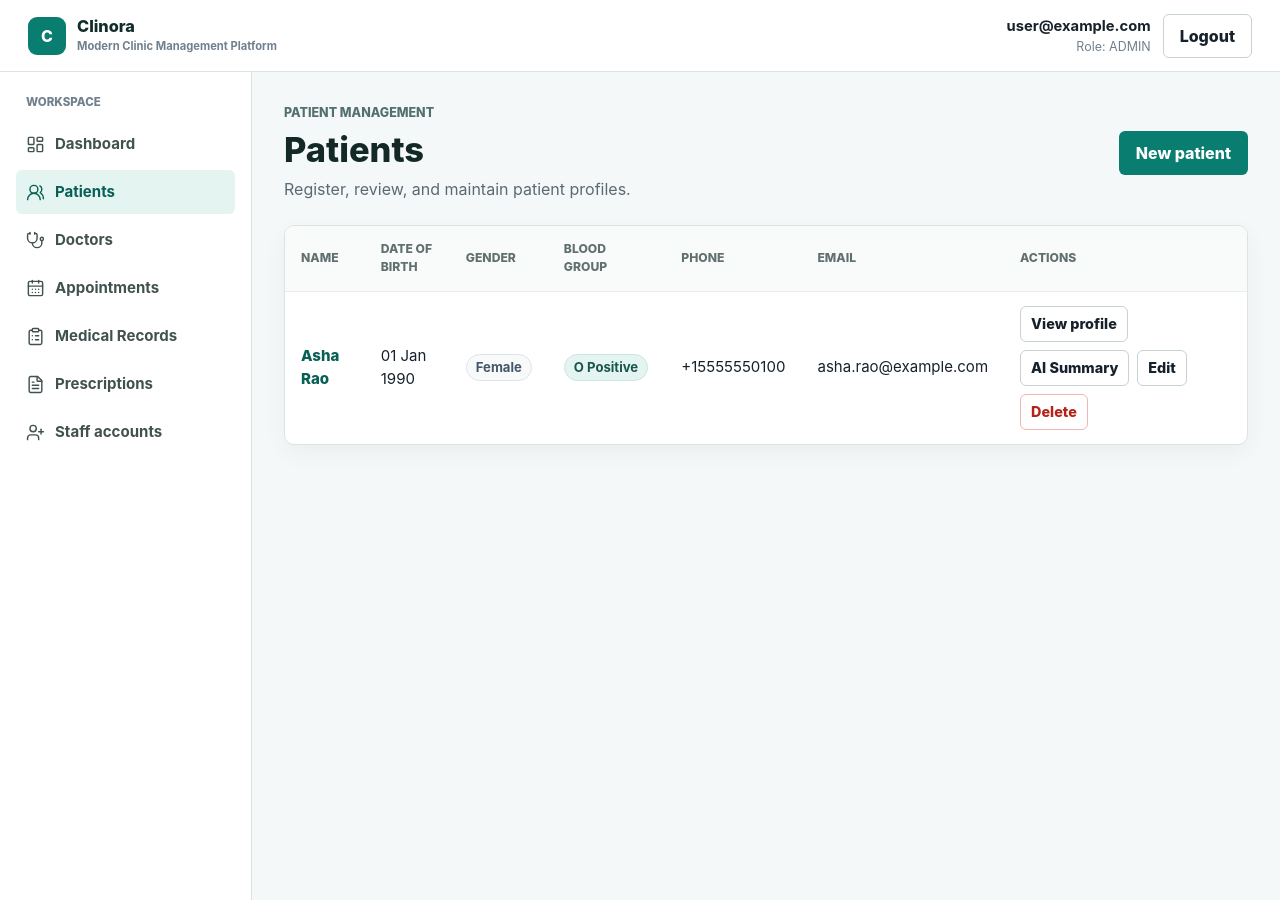
it: PatientsPage › allows admins to delete patients
Click the button "Delete": coordinates (1054, 412) [1020,394,1088,430]
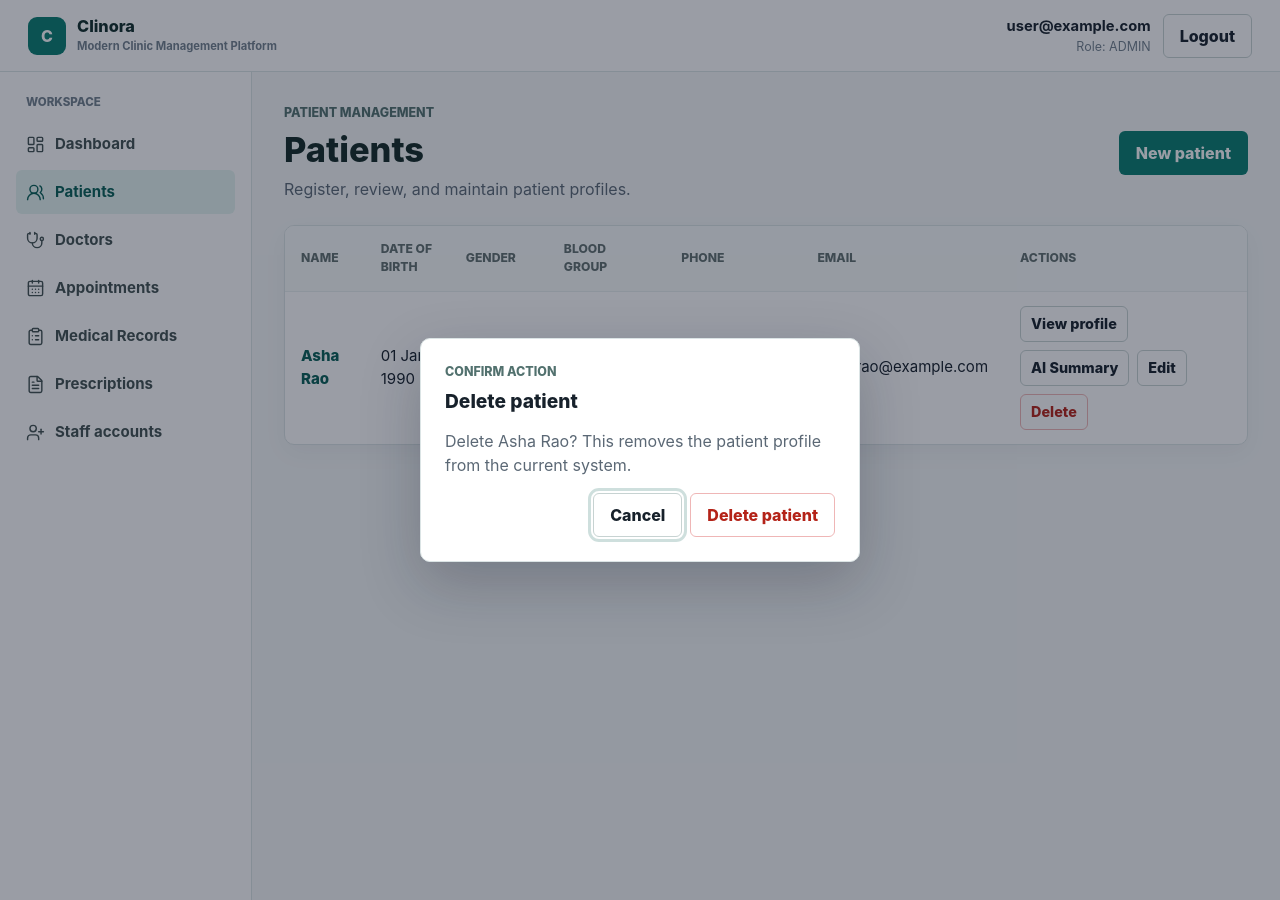
Check: the dialog "Delete patient" is shown, box [420,338,860,562]
Click the button "Delete patient": coordinates (763, 515) [690,493,835,537]
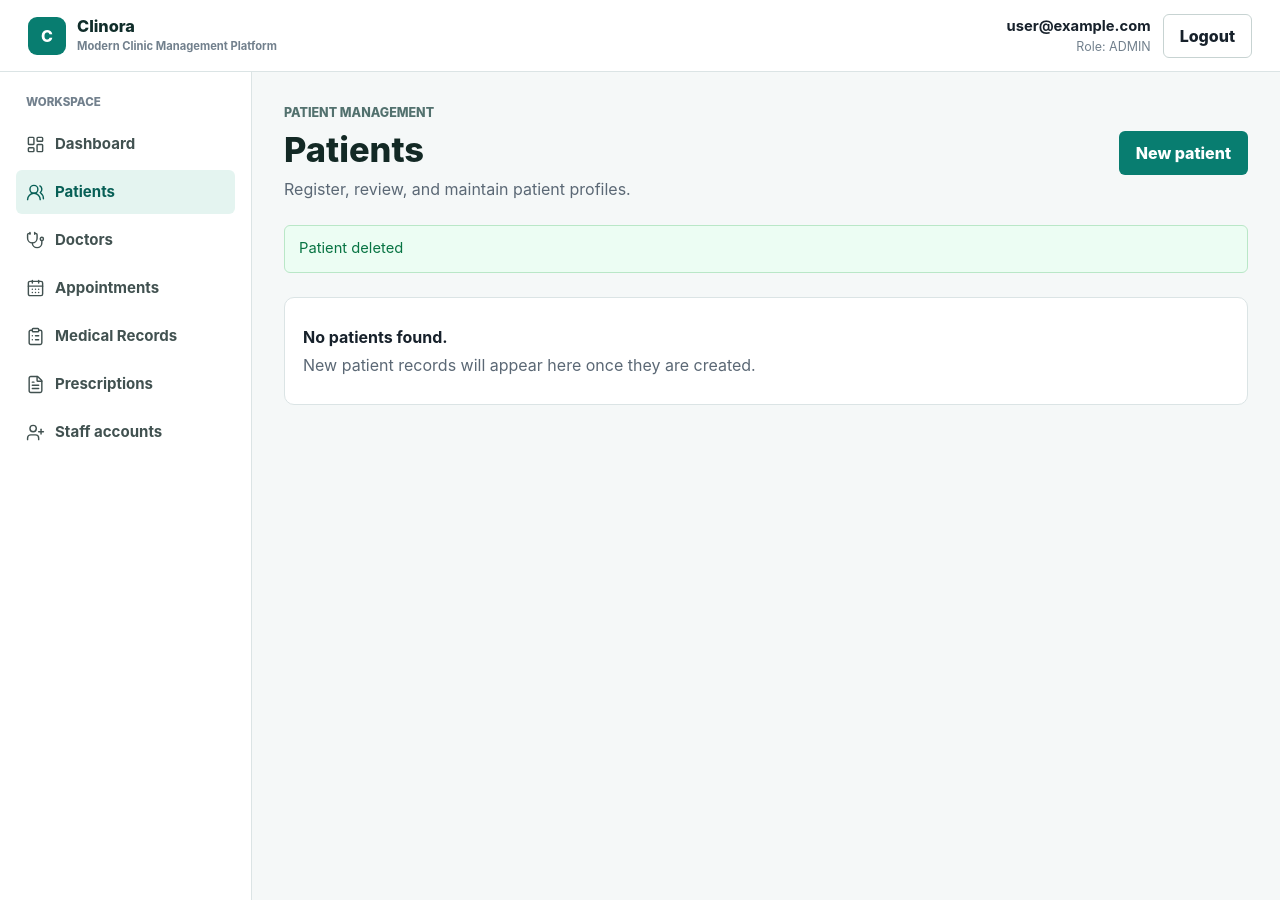
Check: the message reads "Patient deleted", box [299,239,403,257]
Check: the link "Asha Rao" is gone
